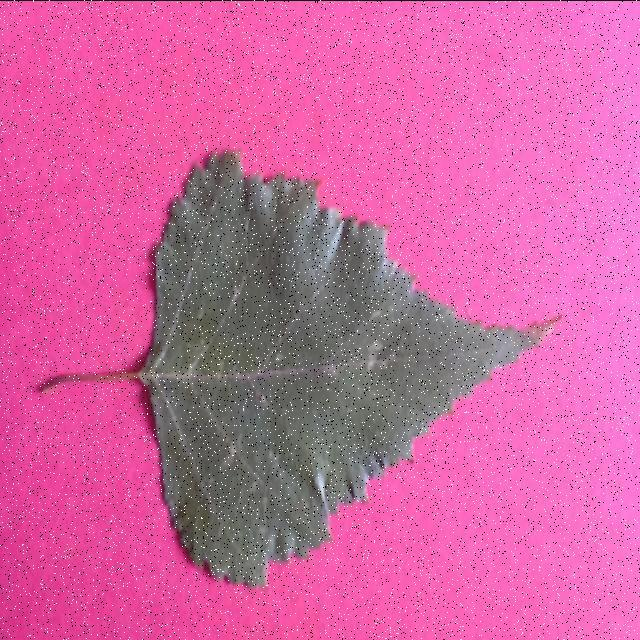foliage: (24, 135, 574, 592)
